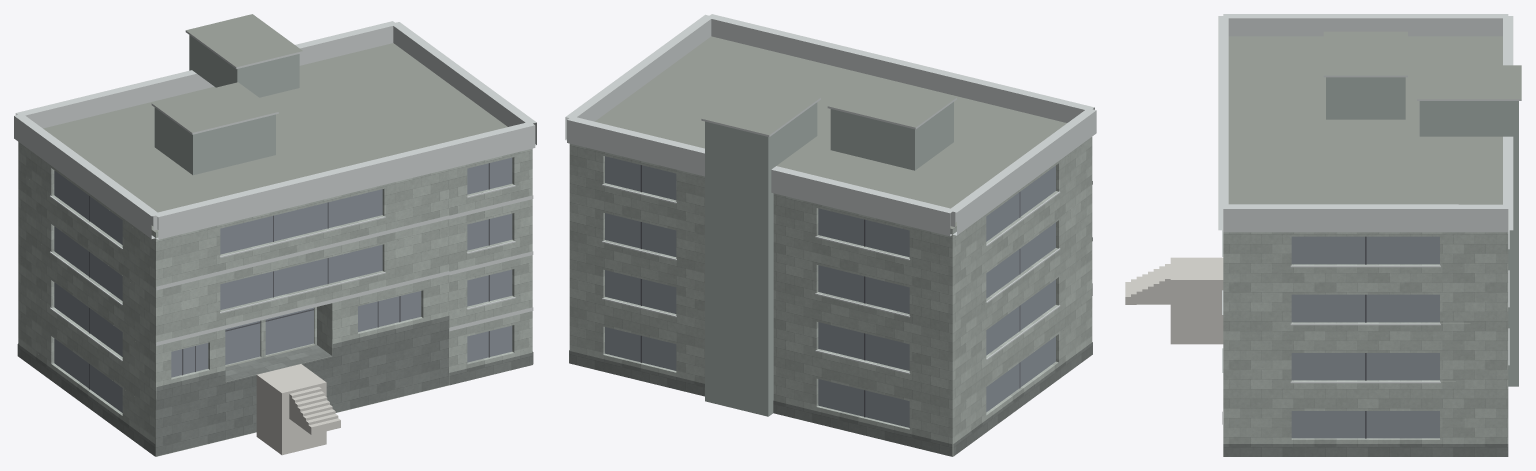
3 renders of one model, left to right at view 1: azimuth 30°, elevation 25°; view 2: azimuth 150°, elevation 25°; view 3: azimuth 270°, elevation 25°, orthographic. The views are drawn at different scales.
Visible parts, largest first — view 1: b45__wall, b45__roof, b45__trim, b45__glass, b45__base, b45__wall2, b45__entranceStair, b45__frame; view 2: b45__wall, b45__roof, b45__trim, b45__wall2, b45__glass, b45__base, b45__frame; view 3: b45__wall, b45__roof, b45__trim, b45__glass, b45__wall2, b45__entranceStair, b45__base.
Part boxes in pixels (x1,y1,x2,y2): b45__wall: [18, 142, 532, 456]; b45__roof: [43, 14, 507, 456]; b45__trim: [14, 21, 536, 361]; b45__glass: [54, 157, 512, 412]; b45__base: [17, 316, 533, 456]; b45__wall2: [154, 35, 299, 175]; b45__entranceStair: [256, 364, 340, 455]; b45__frame: [89, 163, 489, 389]; b45__wall: [569, 137, 1092, 456]; b45__roof: [595, 36, 1066, 456]; b45__trim: [565, 14, 1096, 374]; b45__wall2: [705, 102, 953, 416]; b45__glass: [605, 156, 1055, 427]; b45__base: [569, 283, 1092, 456]; b45__frame: [640, 165, 1020, 417]; b45__wall: [1223, 232, 1508, 443]; b45__roof: [1228, 31, 1521, 439]; b45__trim: [1218, 14, 1521, 383]; b45__glass: [1291, 236, 1439, 438]; b45__wall2: [1326, 77, 1518, 386]; b45__entranceStair: [1125, 257, 1223, 344]; b45__base: [1222, 412, 1508, 456].
Size of the model in its own units: 25.93 by 18.21 by 22.3.
9 materials, 2 textured.
